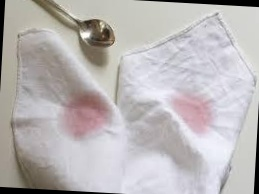wine: (54, 98, 115, 143), (171, 89, 213, 129)
